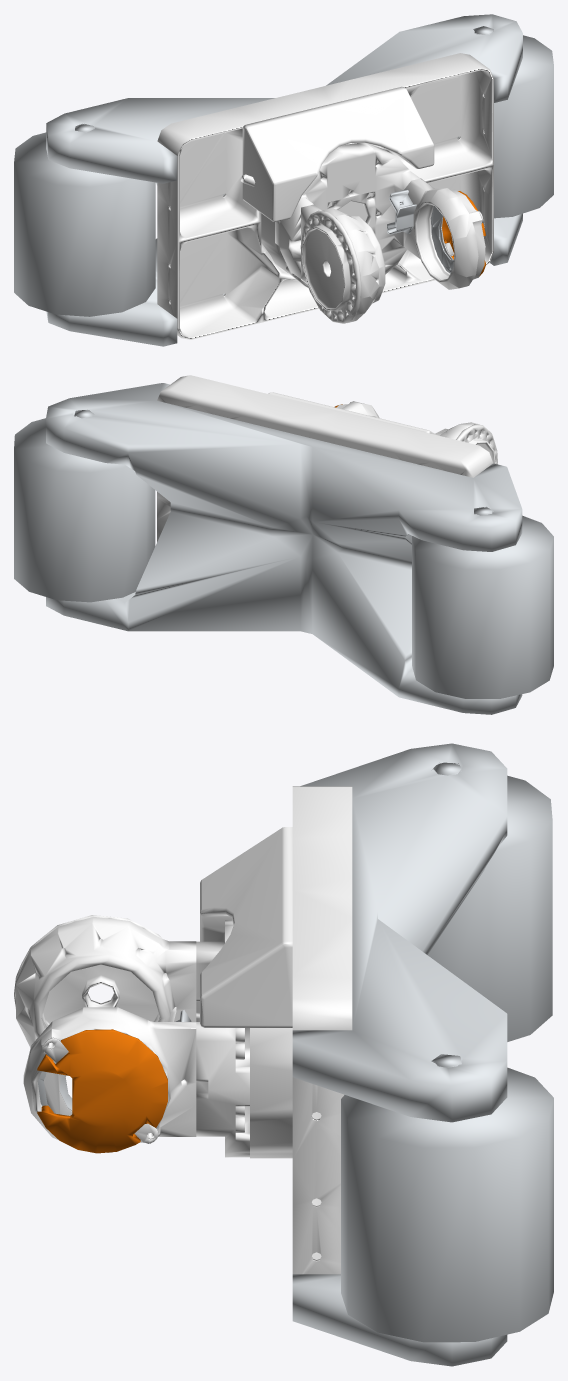
Rendered from LLEG_LINK5.obj.
3 renders of one model, top to bottom at view 1: azimuth 30°, elevation 25°; view 2: azimuth 150°, elevation 25°; view 3: azimuth 270°, elevation 25°, orthographic. The views are drawn at different scales.
Size of the model in its own units: 0.3783 by 0.14 by 0.2266.
